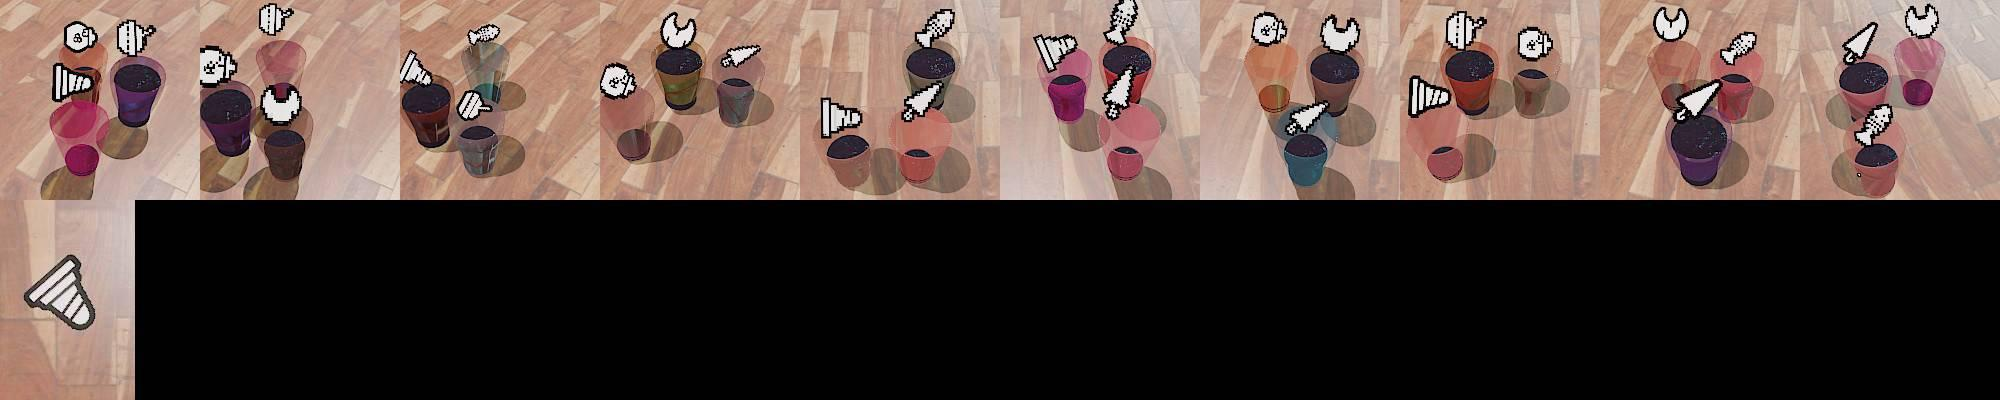icon: (24, 236, 108, 341), (1673, 76, 1723, 122), (1098, 62, 1138, 120), (1033, 33, 1080, 75), (912, 6, 955, 51), (1409, 71, 1453, 116), (50, 61, 94, 103), (259, 83, 302, 125), (1445, 10, 1487, 52), (1319, 13, 1361, 55), (820, 94, 862, 136), (1853, 102, 1894, 145), (198, 45, 237, 88), (1286, 98, 1329, 136), (1103, 0, 1139, 45), (903, 80, 943, 120), (115, 19, 156, 57), (1842, 22, 1878, 64), (598, 62, 638, 99), (659, 11, 696, 51), (1719, 29, 1758, 66), (1517, 25, 1554, 62), (1250, 11, 1288, 47), (1903, 3, 1939, 39), (1653, 6, 1689, 42), (399, 50, 432, 87), (258, 3, 293, 36), (62, 20, 98, 54), (719, 43, 764, 69), (454, 88, 487, 120), (467, 23, 500, 47)
